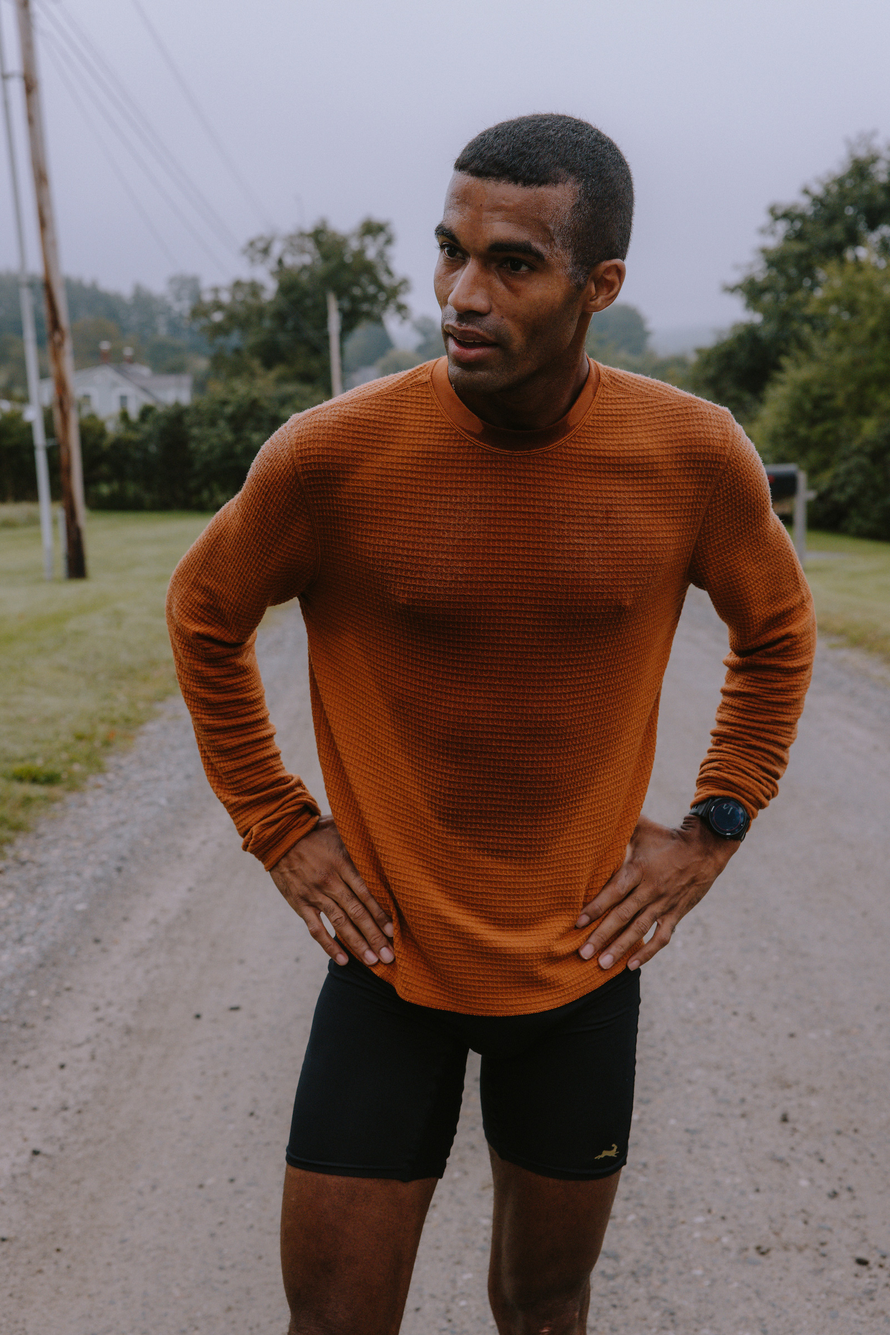egg: (89, 133, 800, 1202)
